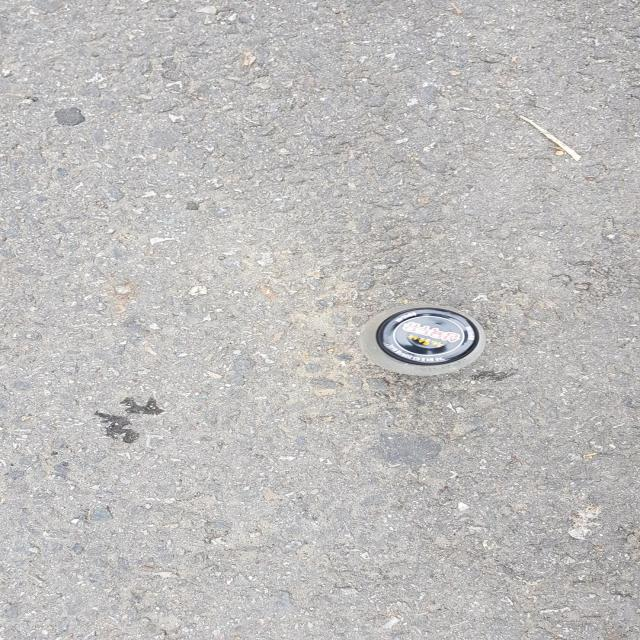glass: (359, 304, 485, 376)
